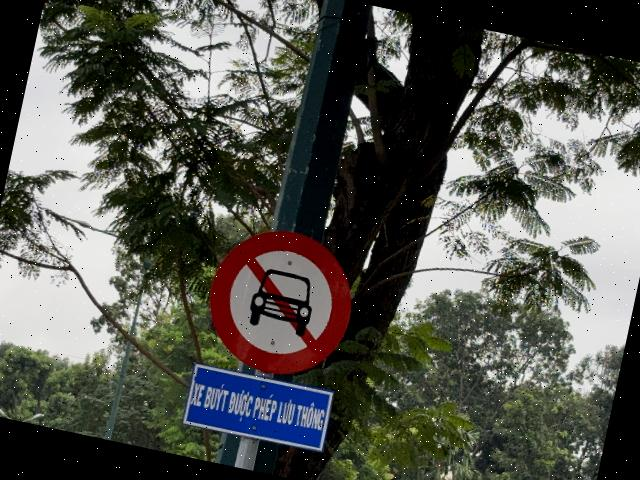cam-o-to: (195, 216, 363, 388)
